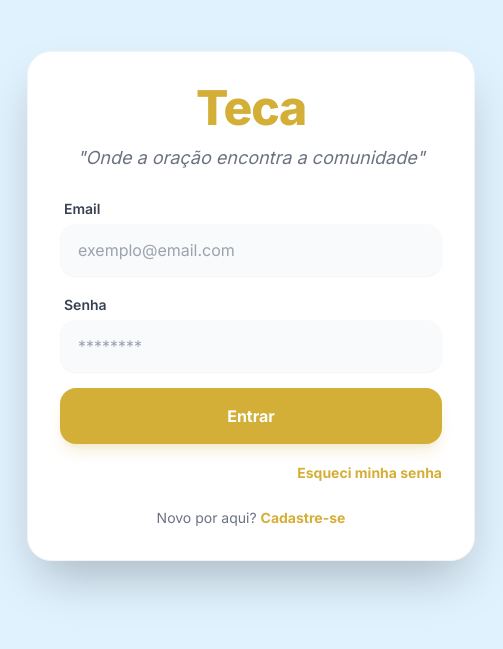
AuthScreen — erro de login visível › mostra "Confirme seu e-mail antes de entrar." quando o e-mail não foi confirmado
In the field with placeholder "exemplo@email.com": (251, 250) [60,224,442,276], type "novo@teca.app.br"
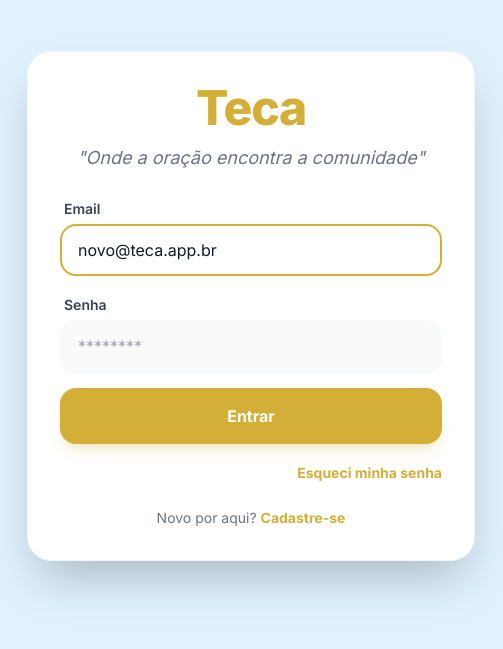
In the password field with placeholder "********": (251, 346) [60,320,442,372], type "MinhaSenha123"
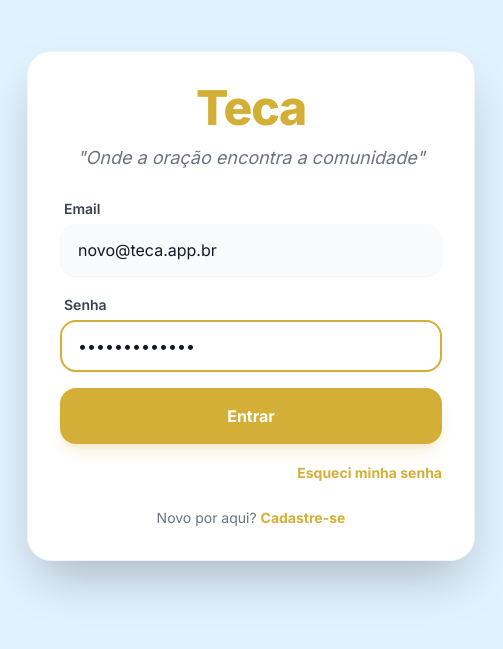
Click the button "Entrar": (251, 416) [60,388,442,444]
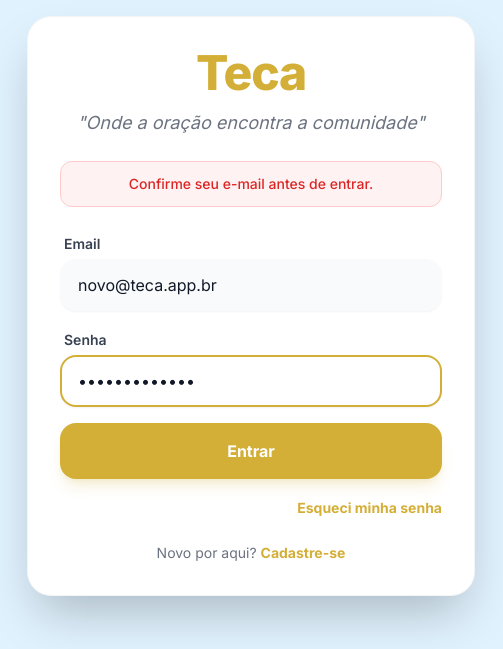
Check: the text "Confirme seu e-mail antes de entrar." is shown, box [60,161,442,207]
